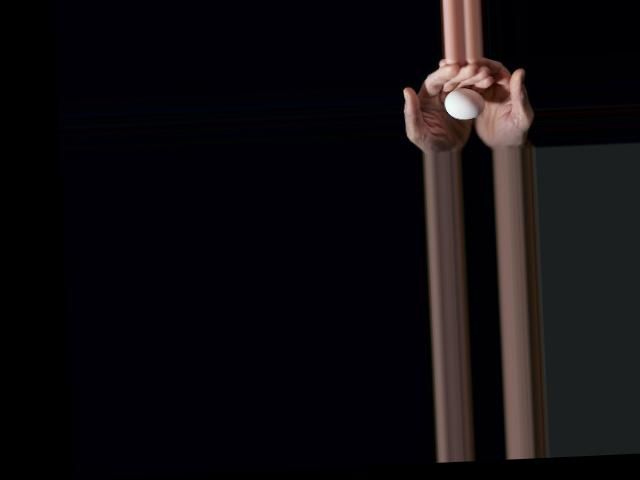egg: (443, 87, 485, 120)
